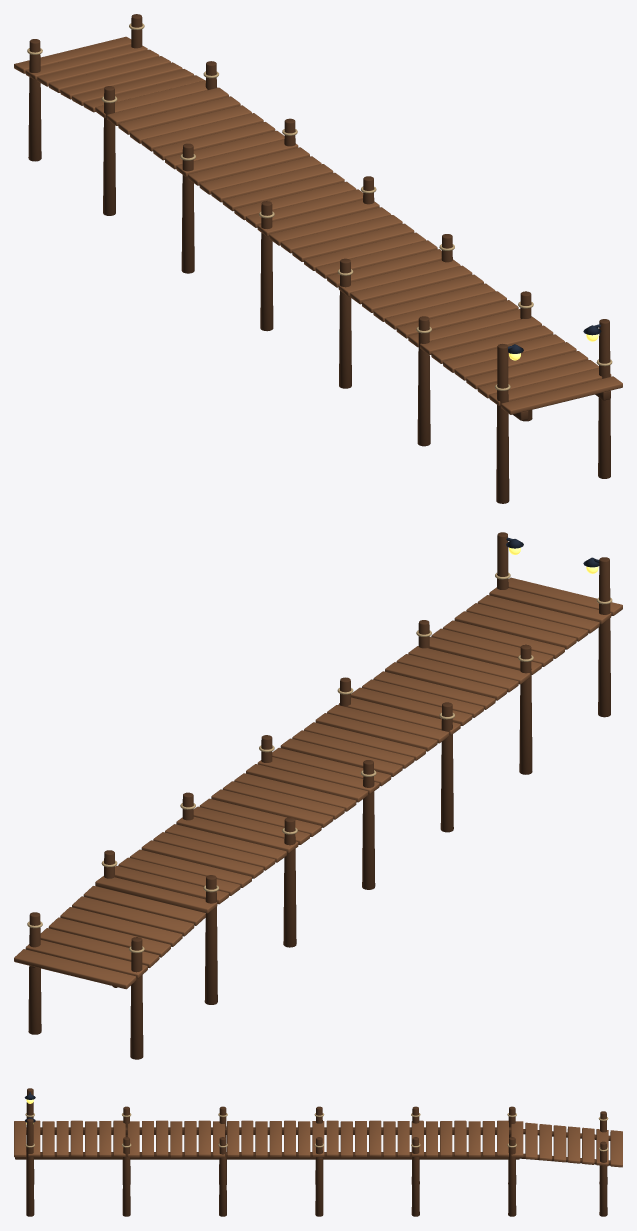
The model's file is pier.glb.
3 views of the same model, one above another, from view 1: azimuth 30°, elevation 25°; view 2: azimuth 150°, elevation 25°; view 3: azimuth 270°, elevation 25° (orthographic). The views are drawn at different scales.
Visible parts, largest first — view 1: PierPost_0_0, PierPost_0_1, PierPlank_0, PierPost_1_0, PierPost_4_0, PierPost_5_0, PierPost_3_0, PierPost_2_0, PierPlank_33, PierPlank_24, PierPlank_27, PierPlank_18 (+39 smaller); view 2: PierPost_0_0, PierRampPlank_6, PierRampPlank_1, PierRampPlank_2, PierRampPlank_0, PierPlank_35, PierPost_1_0, PierPost_4_0, PierPost_2_0, PierPost_3_0, PierRampPlank_3, PierPost_5_0 (+39 smaller); view 3: PierBeam_1.15, PierPost_0_1, PierBeam_-1.15, PierPost_1_1, PierPost_5_1, PierPost_3_1, PierPost_2_1, PierPost_4_1, PierPost_6_1, PierRampPlank_2, PierRampPlank_3, PierPlank_10 (+40 smaller).
Boxes of the visible parts, x1,y1,x2,y2 form: PierPost_0_0: (496,344,509,503); PierPost_0_1: (598,319,610,478); PierPlank_0: (501,376,622,414); PierPost_1_0: (417,316,430,446); PierPost_4_0: (181,143,194,273); PierPost_5_0: (103,86,115,215); PierPost_3_0: (260,201,273,331); PierPost_2_0: (339,258,351,388); PierPlank_33: (118,96,240,134); PierPlank_24: (222,172,344,211); PierPlank_27: (188,147,309,185); PierPlank_18: (292,223,414,261); PierPost_0_0: (598,557,610,717); PierRampPlank_6: (14,949,136,989); PierRampPlank_1: (72,896,194,936); PierRampPlank_2: (60,907,182,946); PierRampPlank_0: (83,886,205,925); PierPlank_35: (95,876,217,913); PierPost_1_0: (519,644,532,774); PierPost_4_0: (283,817,296,947); PierPost_2_0: (440,702,453,832); PierPost_3_0: (362,760,375,889); PierRampPlank_3: (48,917,170,957); PierPost_5_0: (204,875,217,1004); PierBeam_1.15: (15,1152,519,1159); PierPost_0_1: (26,1118,34,1216); PierBeam_-1.15: (26,1127,511,1134); PierPost_1_1: (122,1137,130,1216); PierPost_5_1: (508,1137,516,1216); PierPost_3_1: (315,1137,323,1216); PierPost_2_1: (219,1137,226,1216); PierPost_4_1: (411,1137,419,1216); PierPost_6_1: (599,1141,607,1216); PierRampPlank_2: (553,1125,566,1162); PierRampPlank_3: (567,1126,580,1163); PierPlank_10: (156,1120,168,1156).
Bounding box in the file's own units: 3.22 × 4.15 × 24.01.
